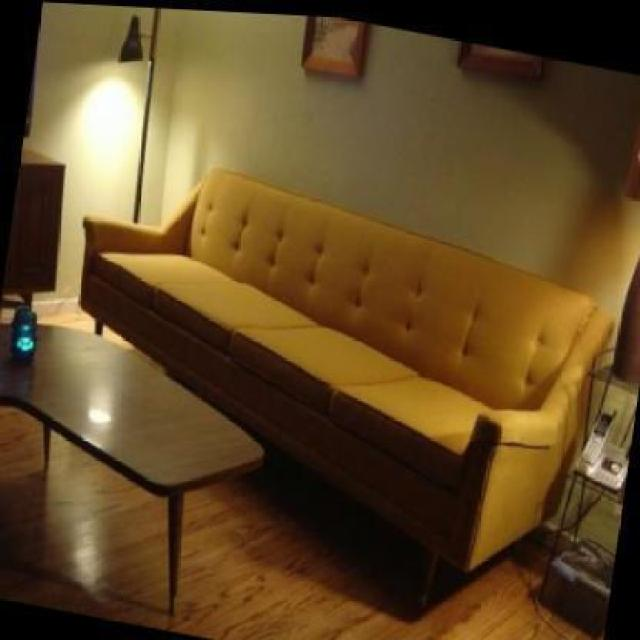tables: (0, 318, 265, 616)
